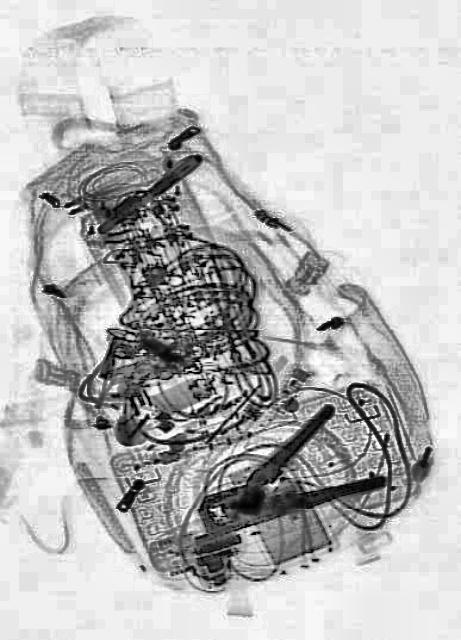Pliers: (186, 388, 386, 570)
